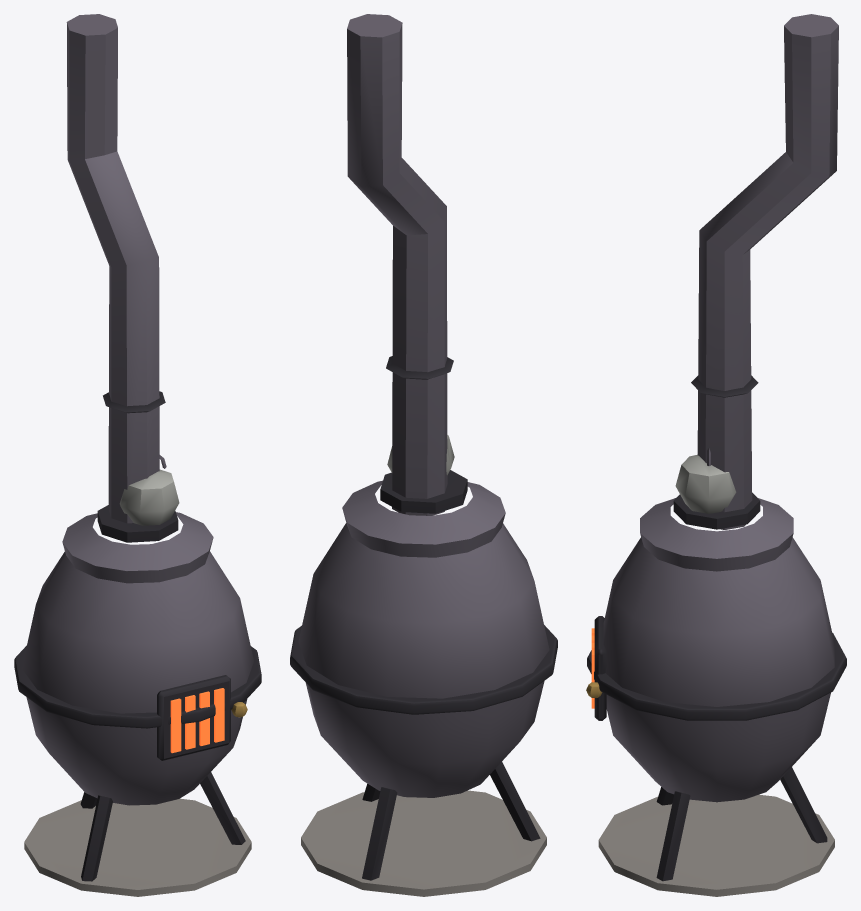
File: stove_woodburning.glb
The picture shows the model from 3 angles, left to right: view 1: azimuth 30°, elevation 25°; view 2: azimuth 150°, elevation 25°; view 3: azimuth 270°, elevation 25°; orthographic projection. The views are drawn at different scales.
Parts seen in each view (by area): view 1: stove_woodburning, flame; view 2: stove_woodburning; view 3: stove_woodburning.
Part boxes in pixels (x1=…): stove_woodburning: x1=14, y1=14, x2=261, y2=896; flame: x1=170, y1=688, x2=224, y2=753; stove_woodburning: x1=290, y1=14, x2=557, y2=896; stove_woodburning: x1=586, y1=14, x2=846, y2=896.
Bounding box in the file's own units: 0.6435 × 2.3 × 0.662.
